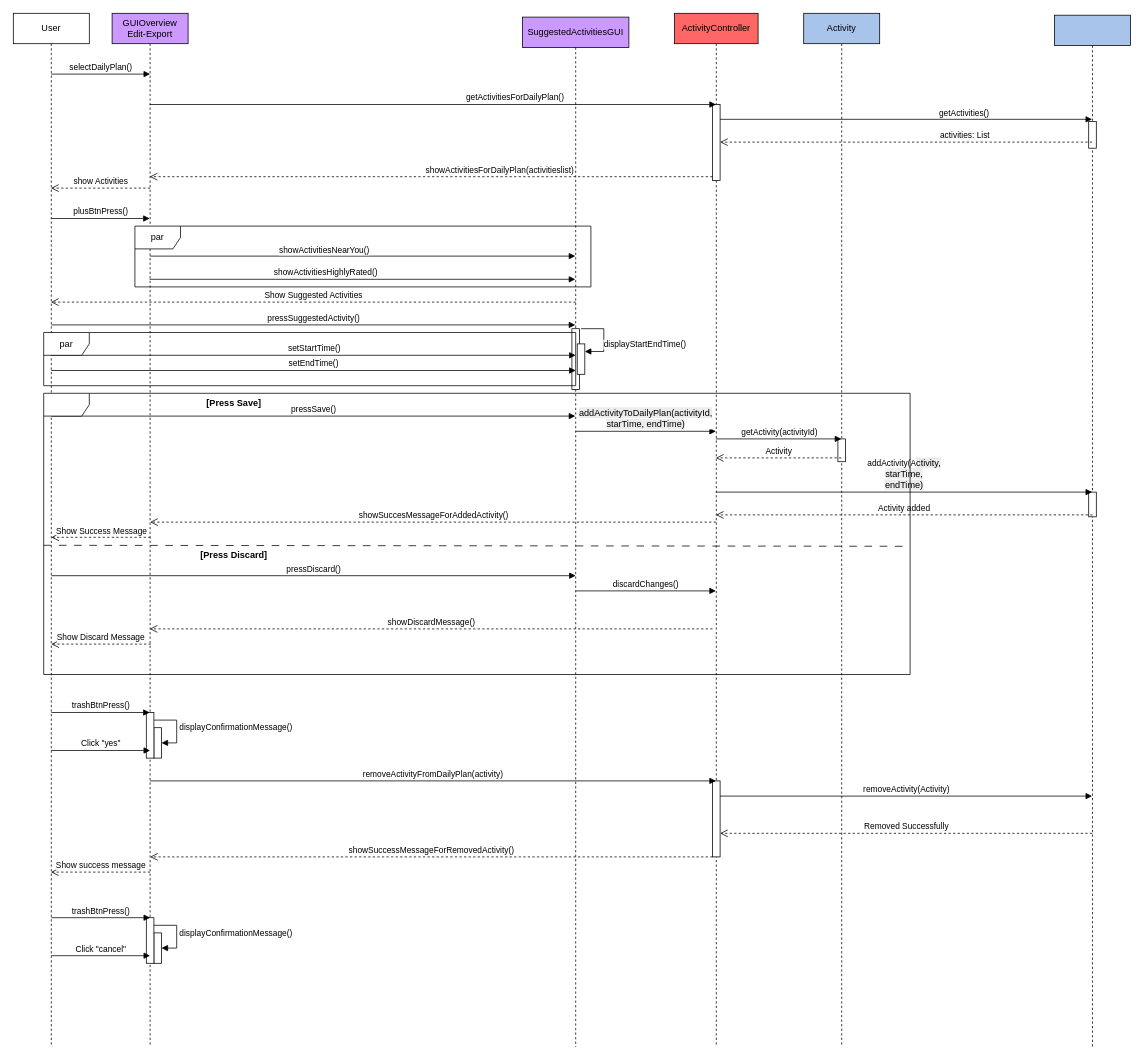
This 1144x1062 diagram has some shape labels left out. Each missing label, with the box of its shape:
alt: (43, 393, 910, 674)
DailyPlan: (1054, 14, 1130, 1049)
